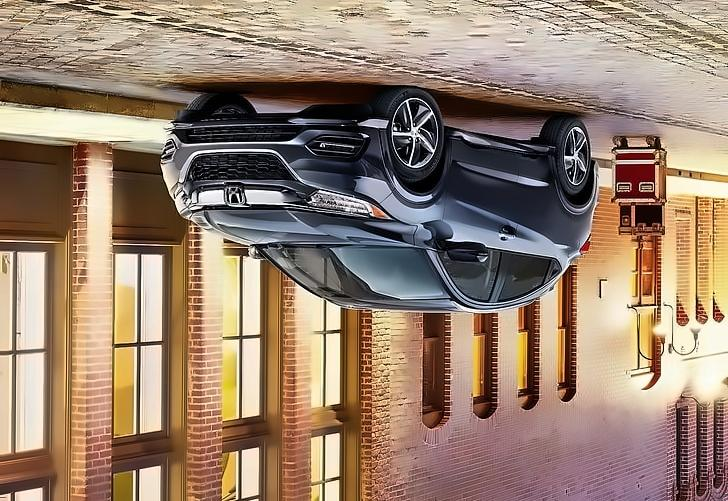Car hood: (179, 206, 418, 249)
Driver-s door - -F-R-: (439, 135, 519, 312)
Fender - -F-R-: (379, 129, 453, 254)
Fender - -R-R-: (567, 169, 597, 236)
Front bumper: (153, 111, 399, 199)
Headlight - -L-: (169, 184, 194, 216)
Headlight - -R-: (301, 186, 400, 224)
Passenger-s door - -R-R-: (500, 144, 570, 312)
Rear light - -R-: (576, 231, 597, 260)
Side bumper - -R-: (441, 123, 558, 161)
Side mirror - -L-: (242, 239, 271, 265)
Side mirror - -R-: (441, 238, 491, 265)
